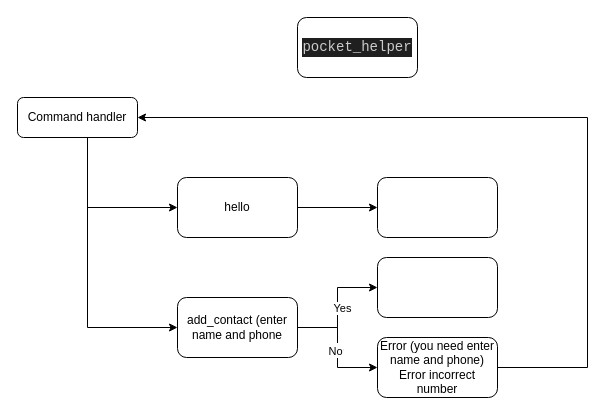
The diagram is 613 pixels wide and 415 high, and some of its shapes have lost their labels. Here are the shapes that lost their labels. From the top down, the box of each, then its label:
(376, 176, 498, 238): massage
(376, 256, 498, 318): Save name and phone
